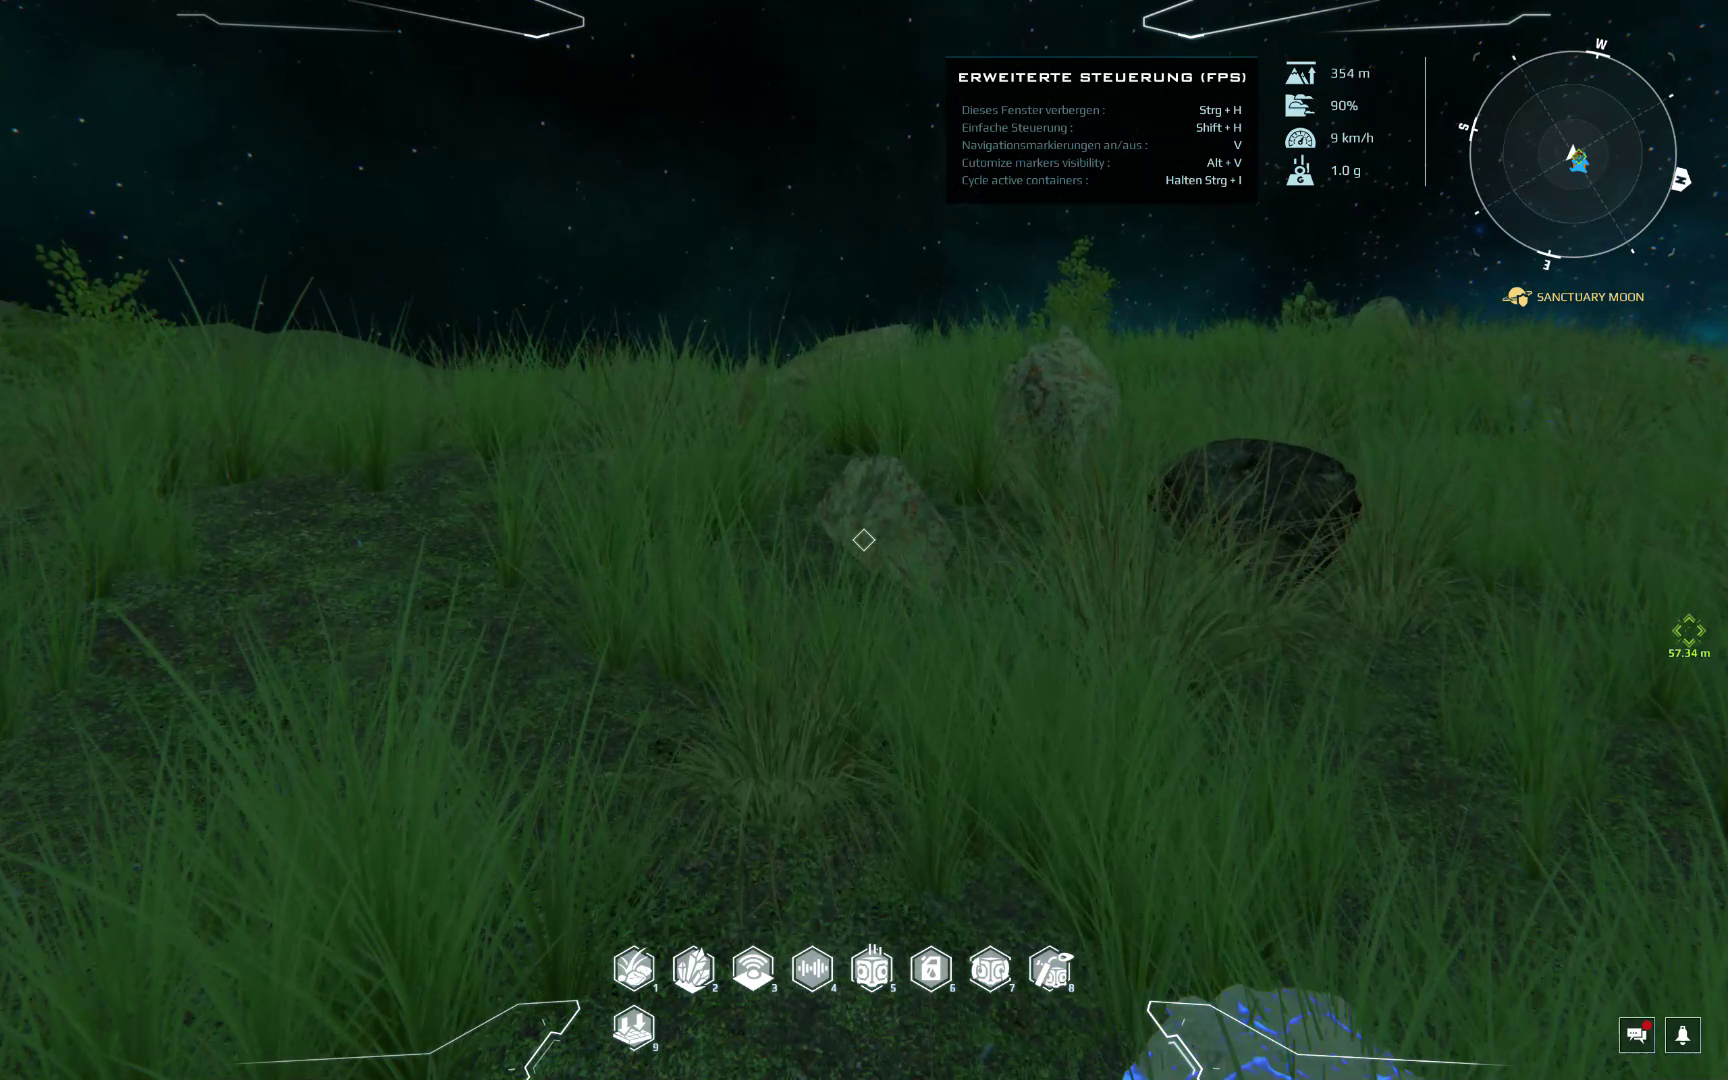Ore: (1113, 982, 1433, 1080), (1145, 437, 1365, 575), (987, 337, 1123, 524), (814, 450, 955, 598), (773, 322, 914, 391)
